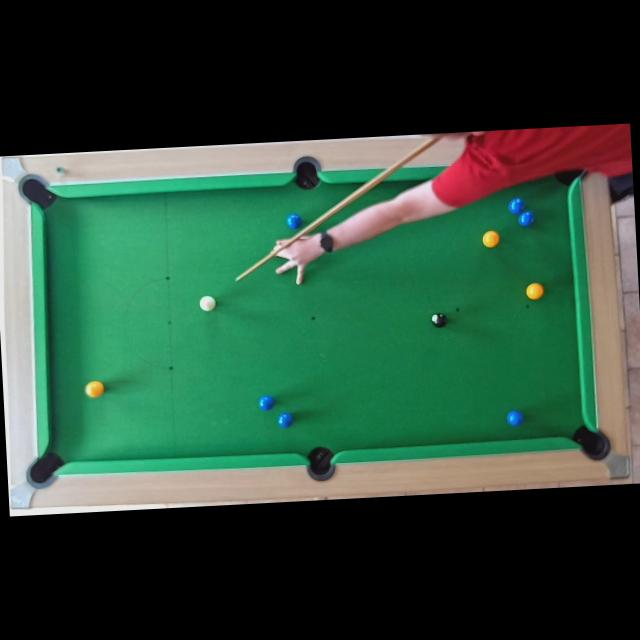Ball: (86, 381, 105, 399), (526, 282, 544, 300), (482, 230, 500, 248), (507, 410, 524, 428), (508, 199, 525, 216), (276, 412, 294, 428), (286, 212, 302, 230), (518, 212, 536, 228), (200, 295, 217, 311), (432, 312, 448, 328), (258, 395, 274, 411)
